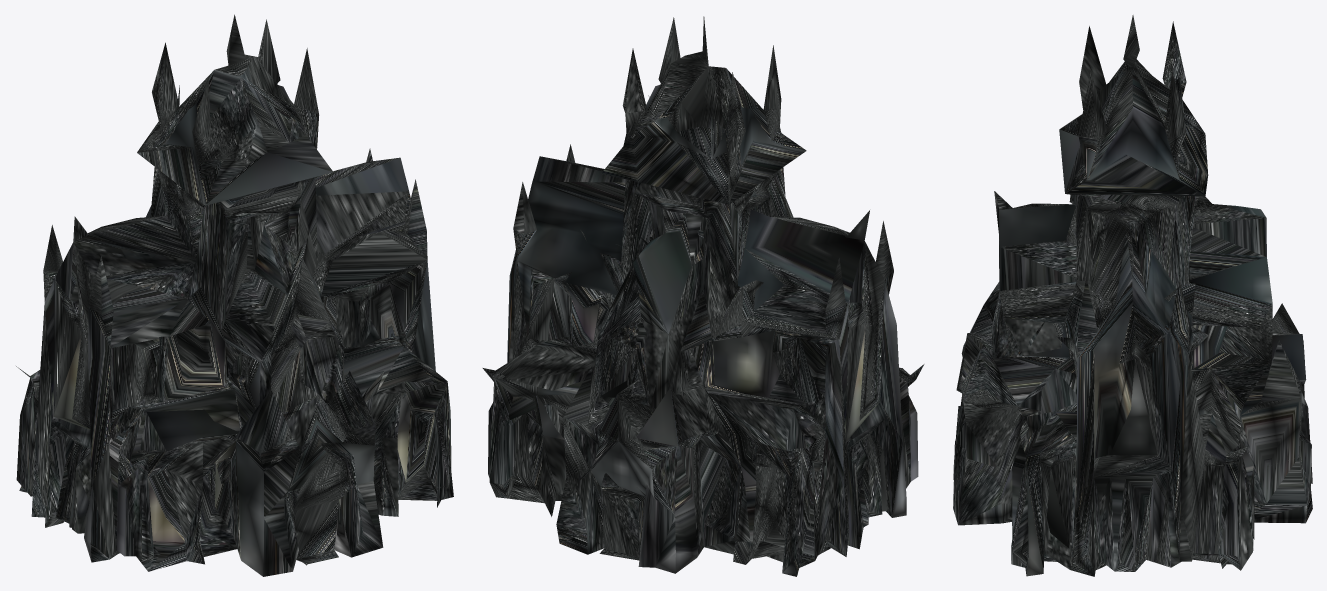
File: Ghotisches_Schloss.glb
3 renders of one model, left to right at view 1: azimuth 30°, elevation 25°; view 2: azimuth 150°, elevation 25°; view 3: azimuth 270°, elevation 25°, orthographic.
Visible parts, largest first — view 1: Ghotisches_Schloss; view 2: Ghotisches_Schloss; view 3: Ghotisches_Schloss.
Part boxes in pixels (<box>): Ghotisches_Schloss: <box>16,14,453,576</box>; Ghotisches_Schloss: <box>482,16,924,576</box>; Ghotisches_Schloss: <box>953,15,1312,576</box>.
Bounding box in the file's own units: 1.38 × 1.83 × 1.24.
Materials: 1 (1 with a texture image).
